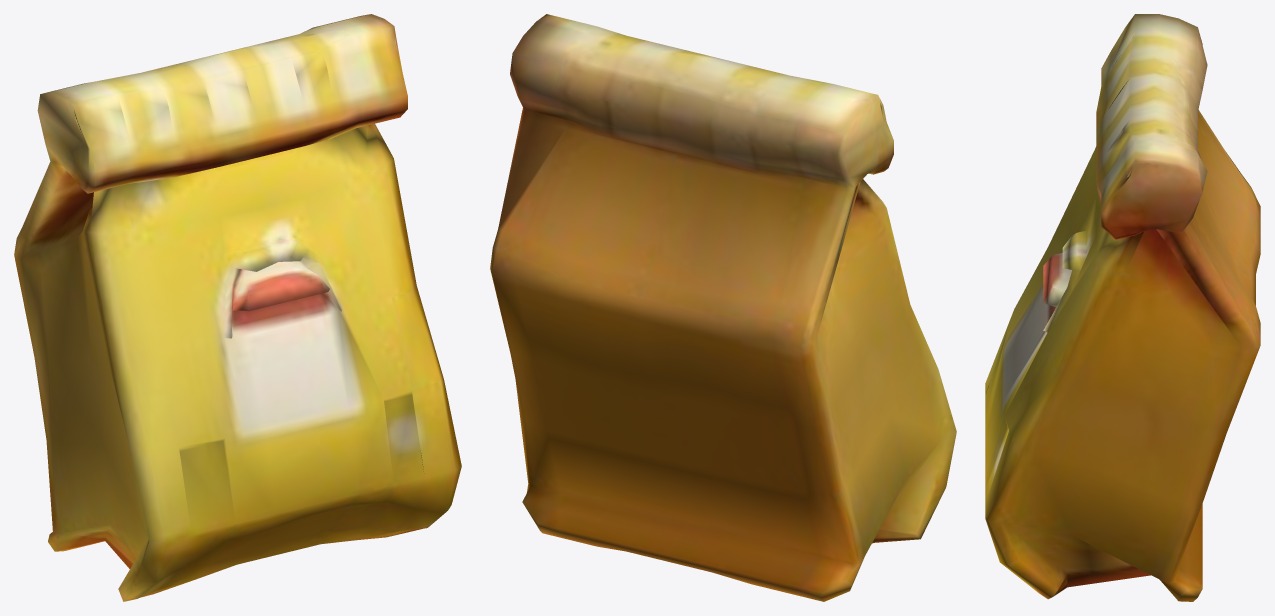
Rendered from breadcrumbs.glb.
The picture shows the model from 3 angles, left to right: view 1: azimuth 30°, elevation 25°; view 2: azimuth 150°, elevation 25°; view 3: azimuth 270°, elevation 25°; orthographic projection. The views are drawn at different scales.
Parts seen in each view (by area): view 1: Breadcrumbs; view 2: Breadcrumbs; view 3: Breadcrumbs.
Part boxes in pixels (x1,y1,x2,y2): Breadcrumbs: (14, 14, 461, 601); Breadcrumbs: (490, 14, 956, 601); Breadcrumbs: (985, 14, 1260, 601).
Size of the model in its own units: 1.13 by 1.61 by 0.88.
Materials: 1 (1 with a texture image).
